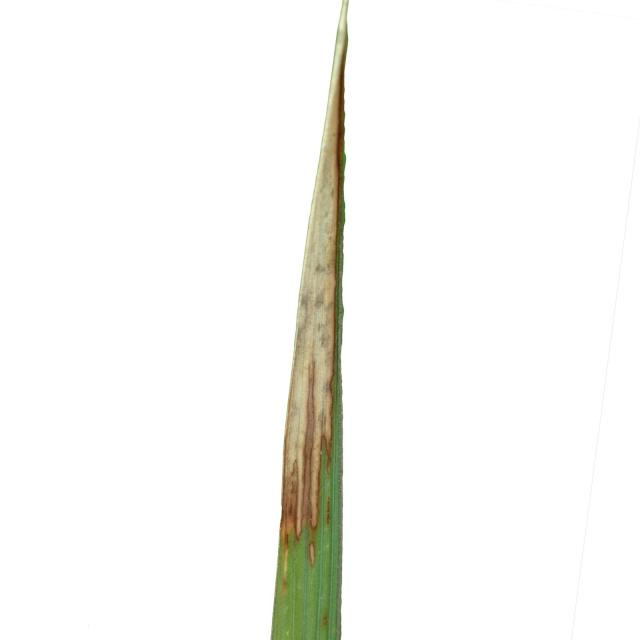Leaf scald: (216, 0, 487, 640)
